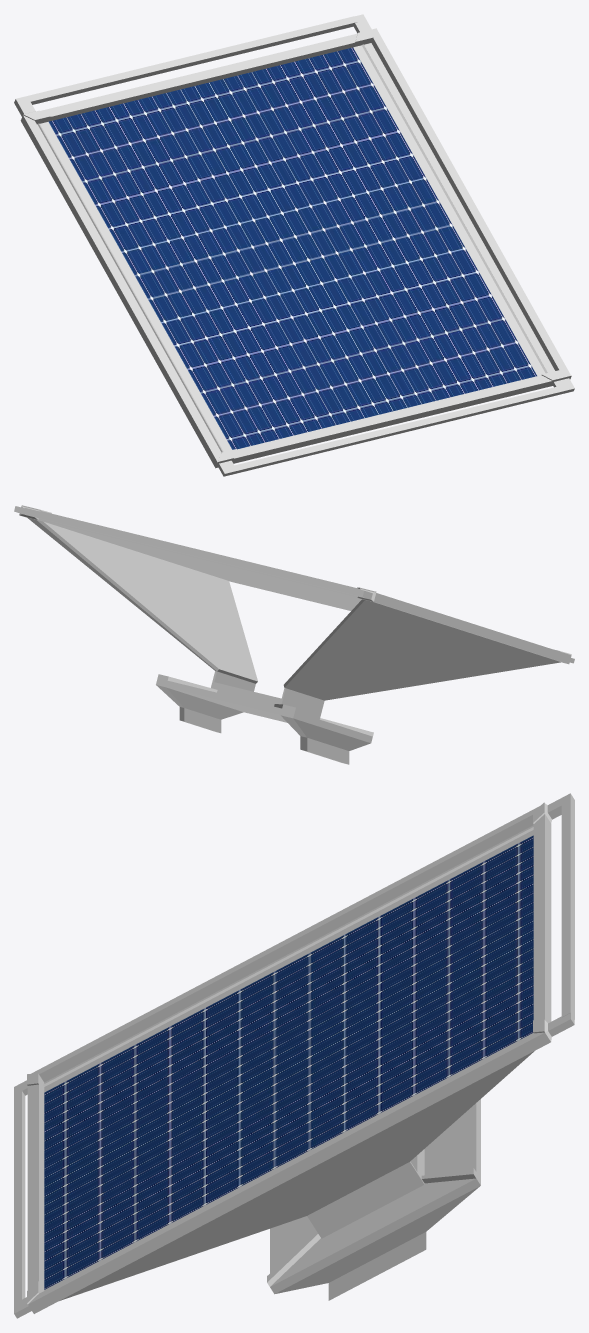
The model's file is panel.fbx.
3 views of the same model, one above another, from view 1: azimuth 30°, elevation 25°; view 2: azimuth 150°, elevation 25°; view 3: azimuth 270°, elevation 25° (orthographic). The views are drawn at different scales.
Visible parts, largest first — view 1: Plane; view 2: Plane; view 3: Plane.
Boxes of the visible parts, x1,y1,x2,y2 form: Plane: [14, 14, 574, 476]; Plane: [14, 505, 574, 764]; Plane: [14, 793, 574, 1318].
Bounding box in the file's own units: 247 × 179 × 256.
2 materials, 1 textured.
